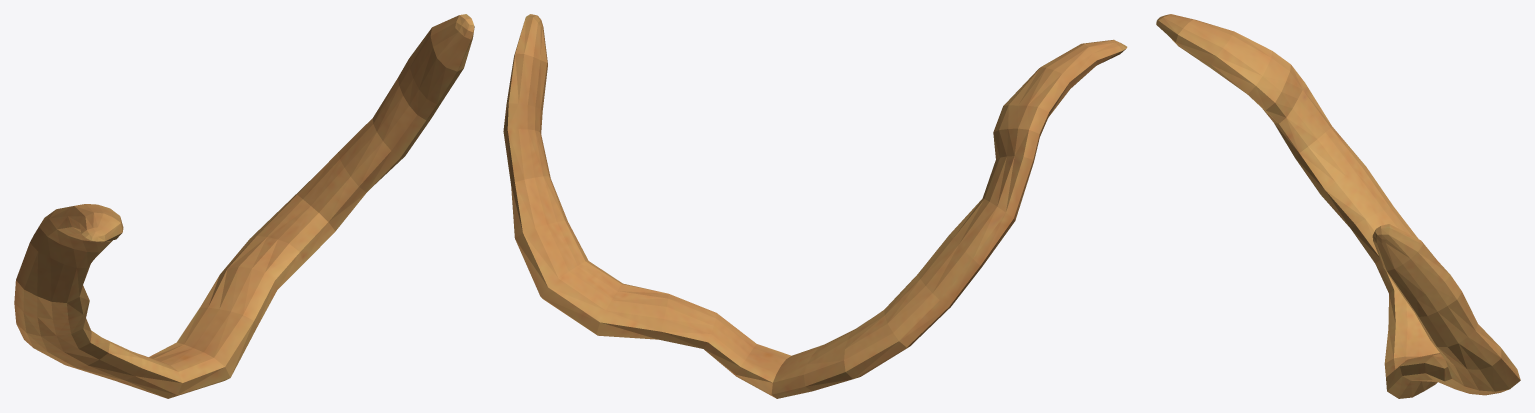
The model's file is pancreas_LP.glb.
3 renders of one model, left to right at view 1: azimuth 30°, elevation 25°; view 2: azimuth 150°, elevation 25°; view 3: azimuth 270°, elevation 25°, orthographic. The views are drawn at different scales.
Parts seen in each view (by area): view 1: pancreas_LP; view 2: pancreas_LP; view 3: pancreas_LP.
Boxes of the visible parts, x1,y1,x2,y2 form: pancreas_LP: (14,14,474,398); pancreas_LP: (503,14,1127,398); pancreas_LP: (1156,14,1520,398).
Size of the model in its own units: 0.00226 by 0.00136 by 0.00161.
1 material, 1 textured.
